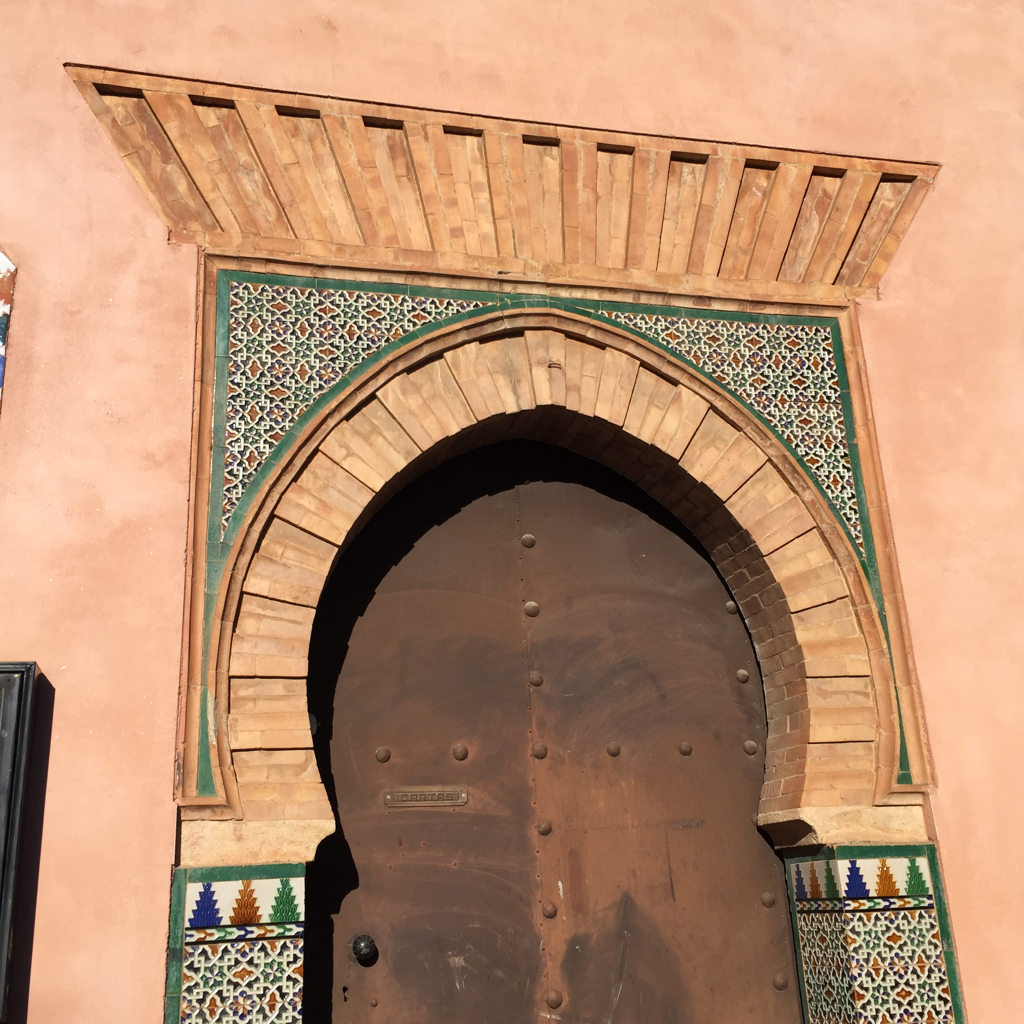arco-herradura: (268, 369, 855, 890)
dintel-adovelado: (78, 70, 946, 300)
